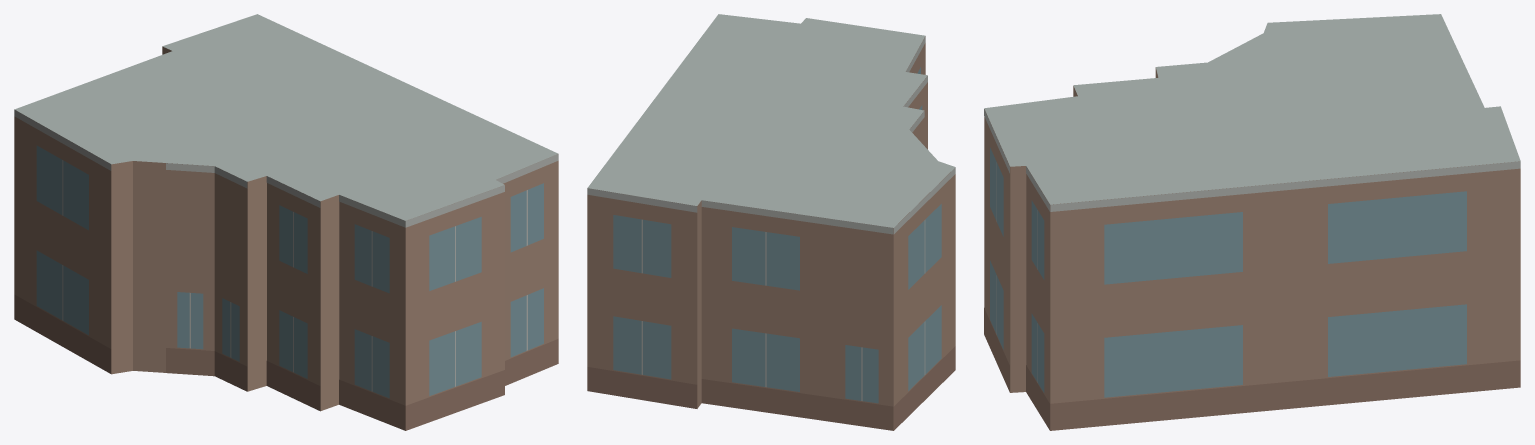
The model's file is survey-upis-32634348.glb.
3 renders of one model, left to right at view 1: azimuth 30°, elevation 25°; view 2: azimuth 150°, elevation 25°; view 3: azimuth 270°, elevation 25°, orthographic. The views are drawn at different scales.
Visible parts, largest first — view 1: survey-upis-32634348.tmp; view 2: survey-upis-32634348.tmp; view 3: survey-upis-32634348.tmp.
Part boxes in pixels (box(x1,y1,x2,y2)): survey-upis-32634348.tmp: box(14, 14, 558, 430); survey-upis-32634348.tmp: box(587, 14, 955, 430); survey-upis-32634348.tmp: box(984, 14, 1520, 430).
Bounding box in the file's own units: 13.57 × 7.5 × 16.14.
